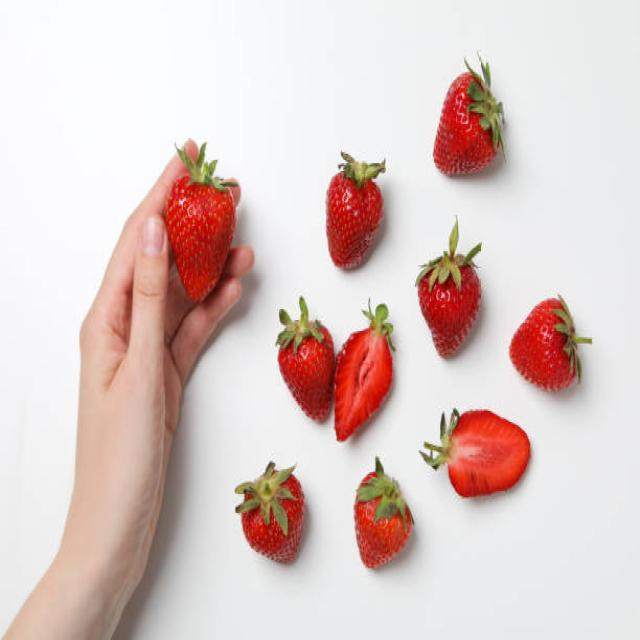Healthy Fruit: (165, 174, 236, 302), (433, 73, 501, 180), (510, 297, 578, 394), (417, 260, 481, 360), (242, 469, 305, 565), (276, 322, 335, 423), (326, 171, 384, 272), (354, 472, 412, 570)
